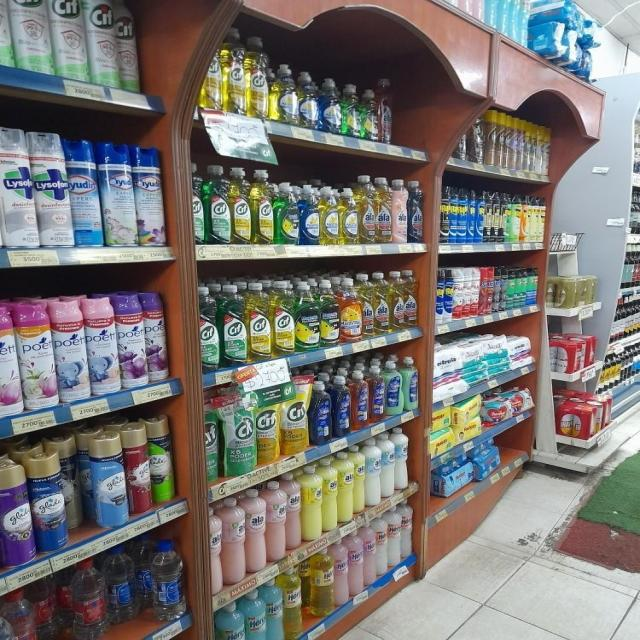ala_conc_amarillo: (359, 175, 375, 244), (374, 271, 390, 334), (376, 176, 391, 243), (389, 270, 405, 332), (405, 270, 419, 330), (362, 273, 374, 337)
ala_conc_azul: (408, 179, 424, 243)
ala_conc_rojo: (377, 78, 395, 144), (392, 177, 408, 243)
ala_crem_amarillo: (302, 464, 322, 541), (322, 457, 338, 532), (337, 451, 353, 524), (354, 445, 365, 516)
ala_crem_blanco: (366, 437, 381, 508), (381, 432, 396, 499), (396, 428, 410, 492)
ala_crem_rosado: (222, 494, 246, 585), (245, 484, 266, 573), (266, 477, 286, 562), (286, 471, 301, 552), (208, 504, 221, 592), (334, 538, 348, 605)
cif_conc_bot_amarilla: (245, 36, 270, 119), (247, 282, 271, 362), (223, 28, 245, 114), (251, 167, 274, 245), (272, 280, 294, 356), (230, 167, 250, 245)
cif_conc_botella_verde: (221, 284, 246, 366), (205, 164, 229, 245), (197, 284, 219, 372), (190, 164, 205, 244)
cif_conc_sachet_amarillo: (280, 378, 308, 456), (256, 393, 280, 464)
cif_conc_sachet_verde: (222, 391, 255, 476), (202, 402, 220, 483)
heroe: (284, 571, 302, 639), (266, 581, 284, 640), (245, 592, 267, 640), (349, 532, 364, 598), (388, 507, 401, 568), (364, 522, 376, 588), (376, 516, 388, 580)
magistral_con_amarillo: (272, 63, 297, 124), (320, 186, 340, 245), (299, 71, 319, 129), (339, 185, 358, 244)
magistral_con_azul: (300, 183, 319, 246), (320, 77, 341, 134)
zorro: (334, 376, 351, 438), (352, 370, 368, 431), (386, 358, 402, 416), (369, 365, 384, 423)
